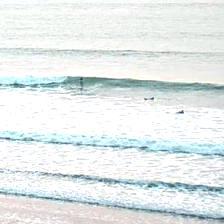surfer: (144, 97, 154, 100), (178, 110, 184, 114), (79, 77, 84, 81)
